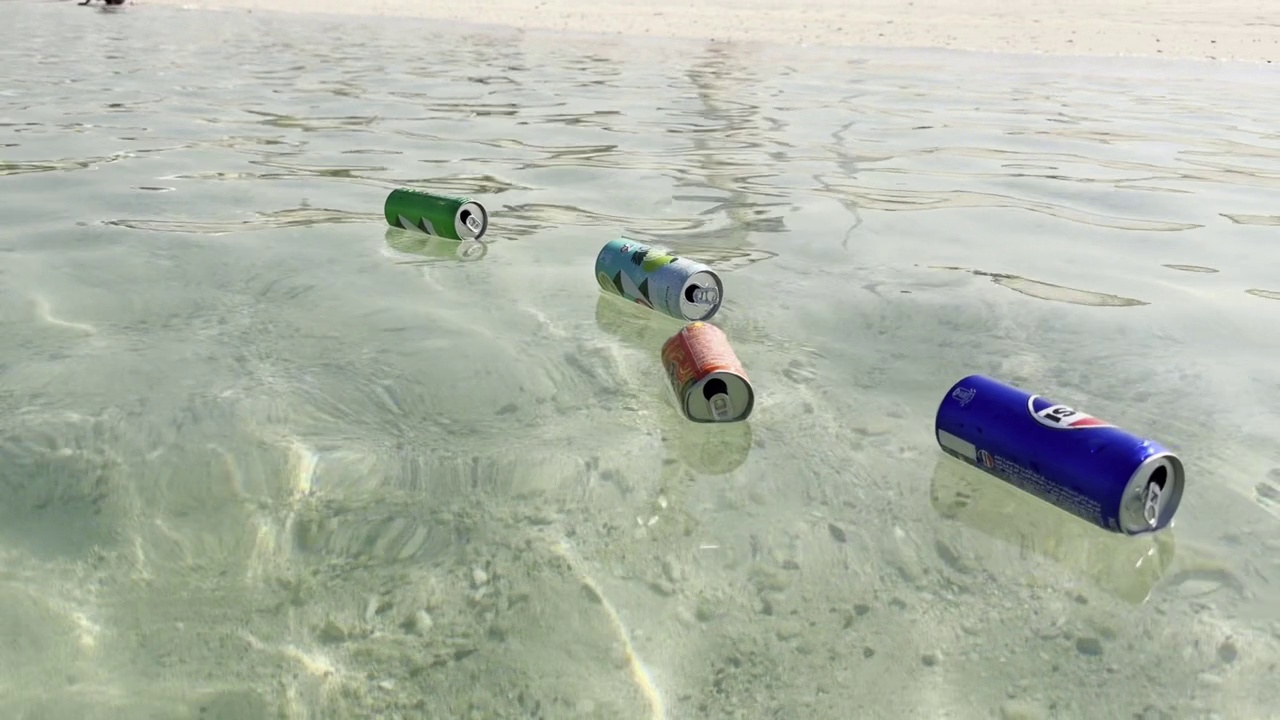debris: (924, 365, 1196, 542), (586, 230, 728, 325), (654, 314, 762, 433), (373, 183, 487, 245)
